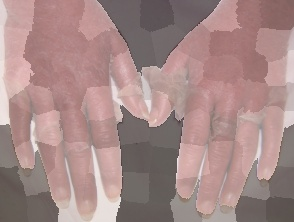SJS-TEN: (124, 24, 294, 164), (2, 62, 150, 172)
